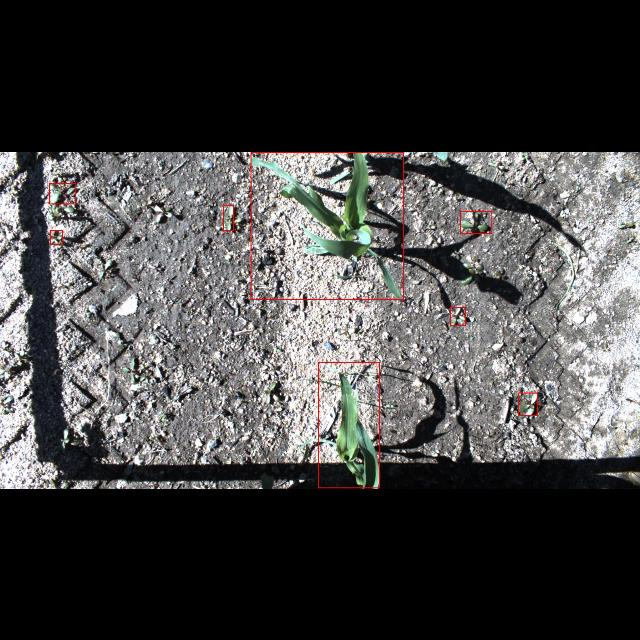crop: (251, 152, 404, 298), (318, 362, 379, 488)
weed: (460, 211, 492, 233), (50, 183, 76, 203), (518, 393, 538, 415), (450, 307, 466, 325), (224, 204, 234, 230), (50, 229, 62, 243)
